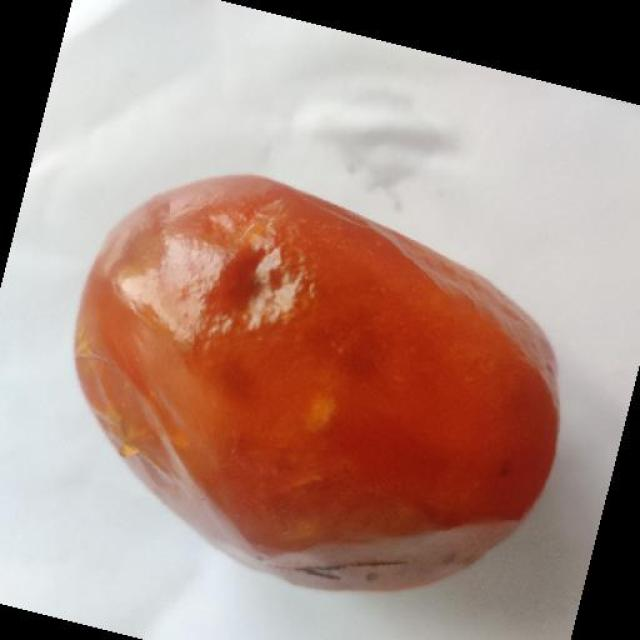Stale_tomato: (133, 189, 441, 532)
